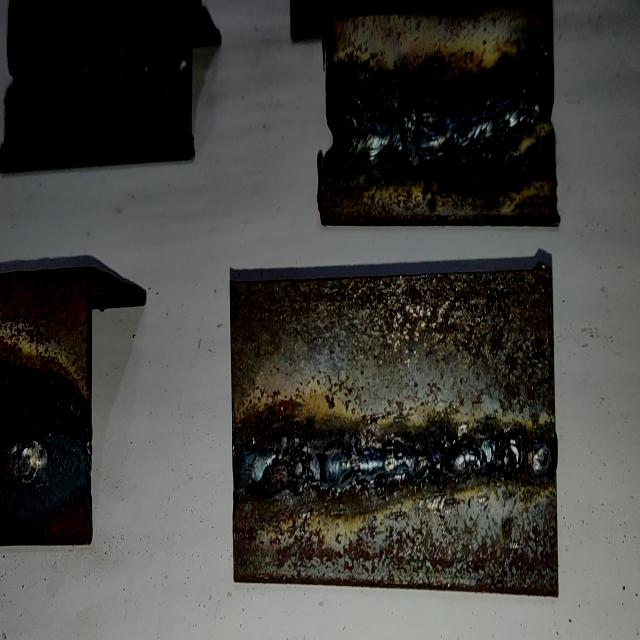Bad Weld: (334, 42, 551, 158), (235, 432, 547, 501)
Defect: (279, 426, 551, 509), (391, 91, 439, 173), (522, 28, 554, 132)
Good Weld: (14, 45, 190, 93)
